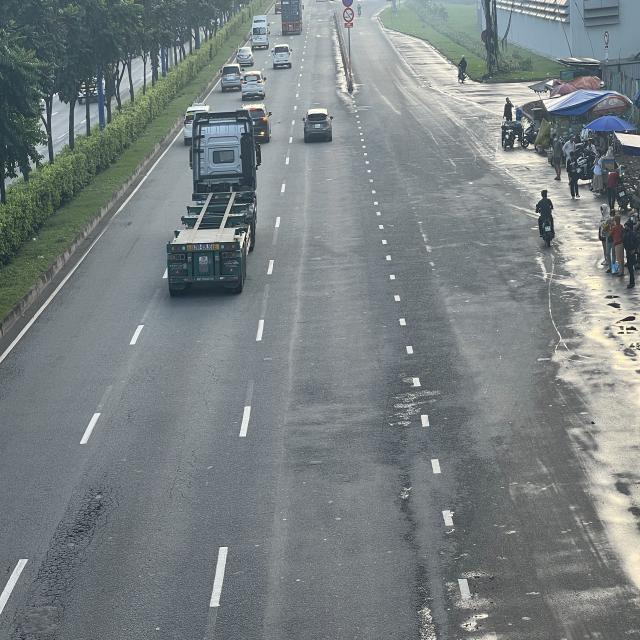car: (304, 107, 334, 142), (240, 72, 266, 102), (219, 64, 242, 92)
container: (166, 116, 262, 296), (280, 0, 302, 35)
van: (252, 23, 270, 48)
